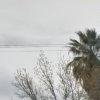Tree: (60, 21, 100, 82)
